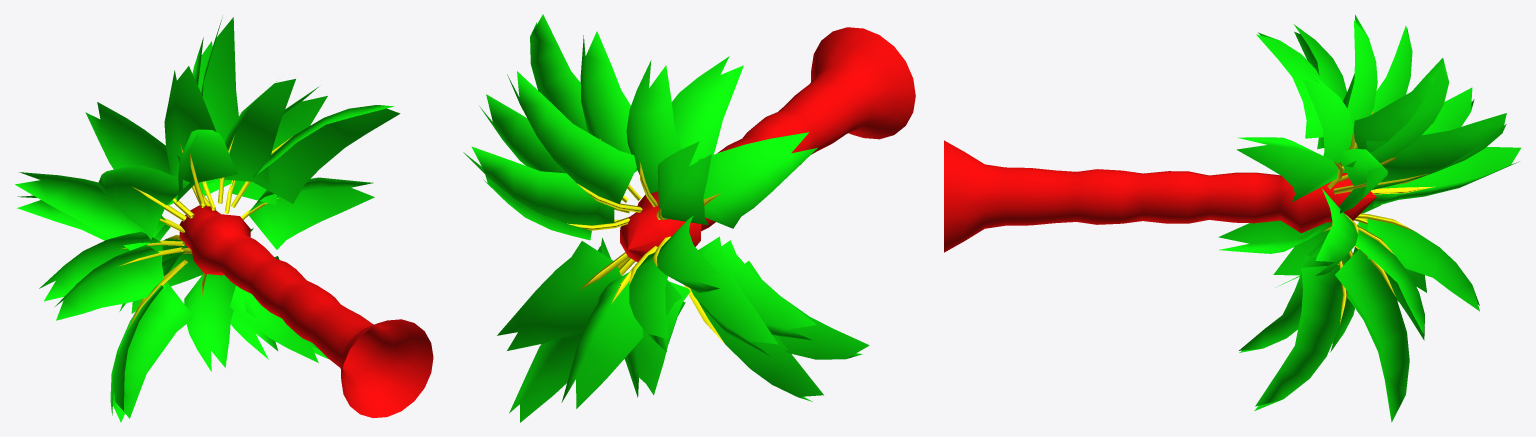
File: M_P10_Tree_6.FBX
3 renders of one model, left to right at view 1: azimuth 30°, elevation 25°; view 2: azimuth 150°, elevation 25°; view 3: azimuth 270°, elevation 25°, orthographic. The views are drawn at different scales.
Parts seen in each view (by area): view 1: M_P10_Tree_6_LOD0; view 2: M_P10_Tree_6_LOD0; view 3: M_P10_Tree_6_LOD0.
Part boxes in pixels (x1=…): M_P10_Tree_6_LOD0: x1=15, y1=17, x2=433, y2=422; M_P10_Tree_6_LOD0: x1=463, y1=14, x2=915, y2=422; M_P10_Tree_6_LOD0: x1=944, y1=14, x2=1520, y2=422.
Size of the model in its own units: 284 by 433 by 293.
